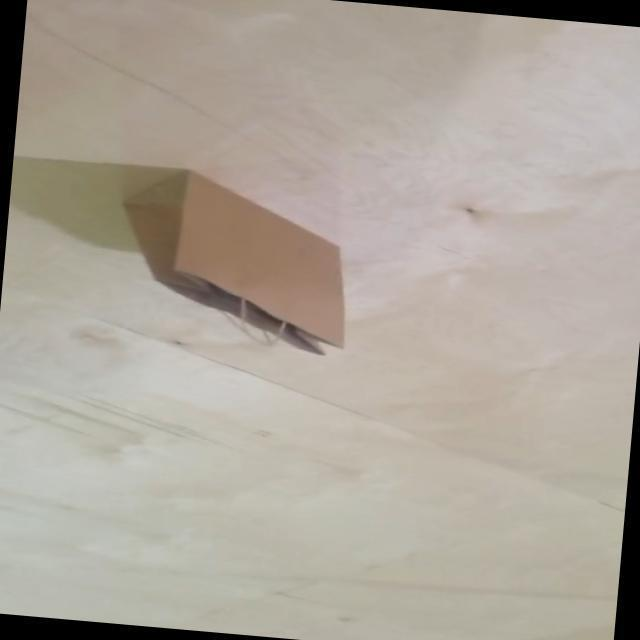Paper_Bag: (110, 164, 358, 358)
